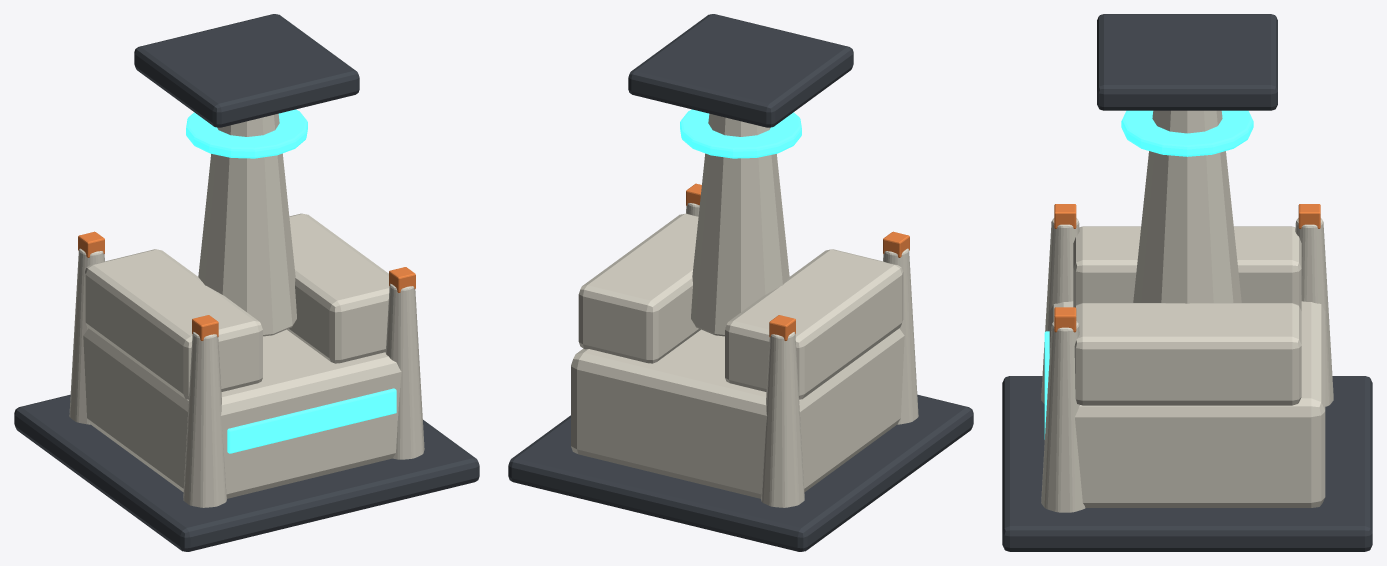
Rendered from human_hq_t2.glb.
3 views of the same model, side by side, from view 1: azimuth 30°, elevation 25°; view 2: azimuth 150°, elevation 25°; view 3: azimuth 270°, elevation 25° (orthographic). The views are drawn at different scales.
Parts seen in each view (by area): view 1: command_hall, foundation, crown, operations_wing, command_spire, operations_wing.001, support_pylon, support_pylon.001, ops_band, part_core, support_pylon.002; view 2: command_hall, foundation, crown, operations_wing, command_spire, operations_wing.001, support_pylon.002, part_core, support_pylon; view 3: command_hall, foundation, operations_wing.001, crown, command_spire, operations_wing, support_pylon.001, part_core, support_pylon.002, support_pylon, pylon_light.001, pylon_light (+1 smaller).
Boxes of the visible parts, left/top/right/bottom form: command_hall: left=83, top=328, right=401, bottom=498; foundation: left=14, top=394, right=479, bottom=551; crown: left=134, top=14, right=359, bottom=127; operations_wing: left=84, top=249, right=262, bottom=399; command_spire: left=198, top=113, right=296, bottom=336; operations_wing.001: left=287, top=213, right=389, bottom=363; support_pylon: left=183, top=332, right=226, bottom=507; support_pylon.001: left=385, top=283, right=424, bottom=459; ops_band: left=227, top=388, right=396, bottom=453; part_core: left=186, top=109, right=307, bottom=158; support_pylon.002: left=69, top=248, right=104, bottom=424; command_hall: left=571, top=328, right=904, bottom=498; foundation: left=508, top=394, right=973, bottom=551; crown: left=628, top=14, right=853, bottom=127; operations_wing: left=725, top=249, right=903, bottom=399; command_spire: left=691, top=113, right=789, bottom=336; operations_wing.001: left=578, top=213, right=700, bottom=363; support_pylon.002: left=761, top=332, right=804, bottom=507; part_core: left=680, top=109, right=801, bottom=158; support_pylon: left=883, top=248, right=918, bottom=424; command_hall: left=1049, top=301, right=1325, bottom=507; foundation: left=1002, top=376, right=1372, bottom=551; operations_wing.001: left=1074, top=303, right=1301, bottom=405; crown: left=1097, top=14, right=1277, bottom=110; command_spire: left=1133, top=110, right=1241, bottom=303; operations_wing: left=1073, top=226, right=1301, bottom=310; support_pylon.001: left=1041, top=321, right=1085, bottom=512; part_core: left=1121, top=110, right=1253, bottom=156; support_pylon.002: left=1295, top=218, right=1333, bottom=406; support_pylon: left=1041, top=218, right=1079, bottom=403; pylon_light.001: left=1054, top=307, right=1076, bottom=332; pylon_light: left=1054, top=204, right=1076, bottom=228.
Size of the model in its own units: 4.7 by 5.98 by 4.7.
